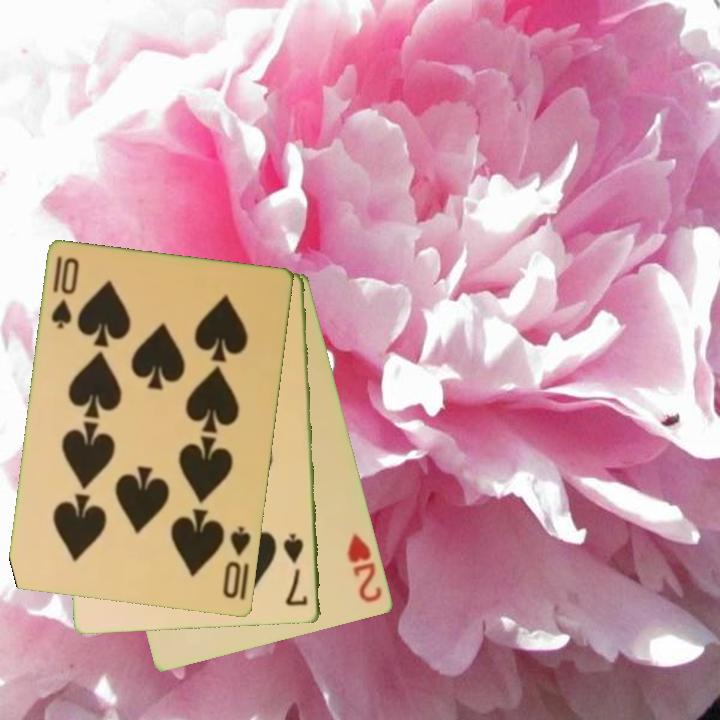10s: (219, 523, 254, 602), (48, 253, 82, 332)
2h: (344, 530, 386, 606)
7s: (280, 530, 311, 610)
